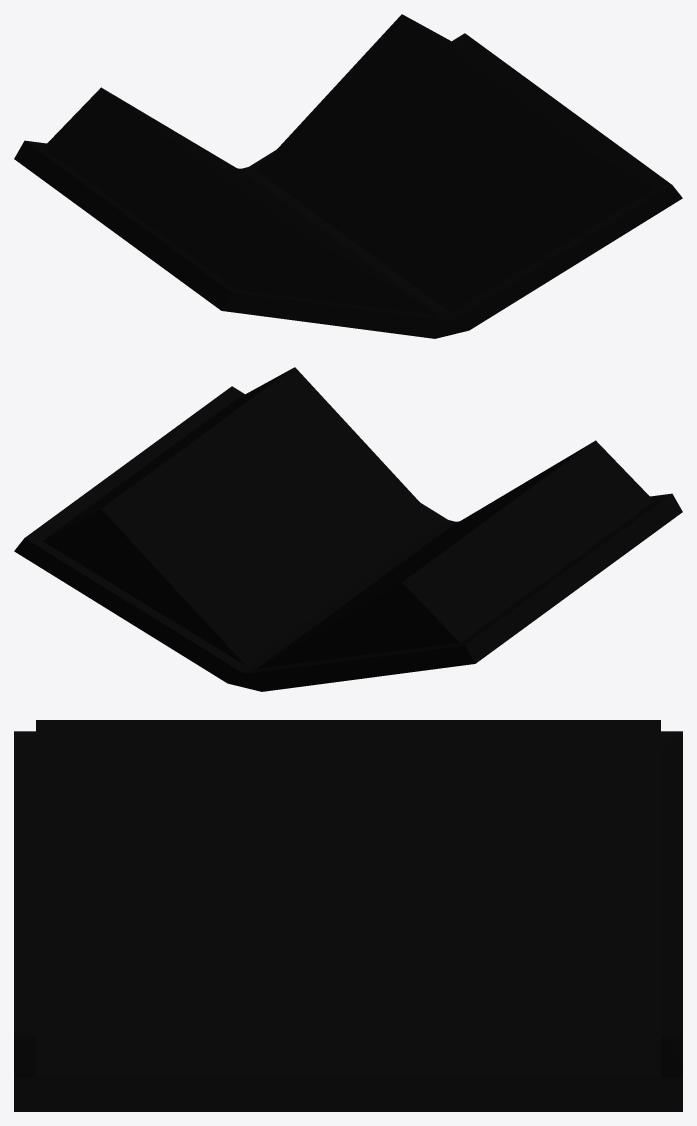
File: Sach.fbx
The picture shows the model from 3 angles, top to bottom: view 1: azimuth 30°, elevation 25°; view 2: azimuth 150°, elevation 25°; view 3: azimuth 270°, elevation 25°; orthographic projection. The views are drawn at different scales.
Visible parts, largest first — view 1: Sach_2; view 2: Sach_2; view 3: Sach_2.
Boxes of the visible parts, x1=… form: Sach_2: x1=14, y1=14, x2=682, y2=338; Sach_2: x1=14, y1=367, x2=682, y2=691; Sach_2: x1=14, y1=720, x2=682, y2=1111.
Bounding box in the file's own units: 323 × 91.59 × 251.
